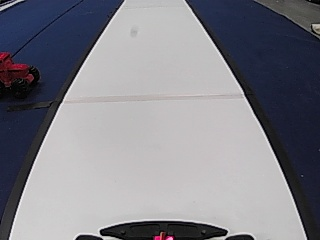tractor: (0, 49, 39, 100)
